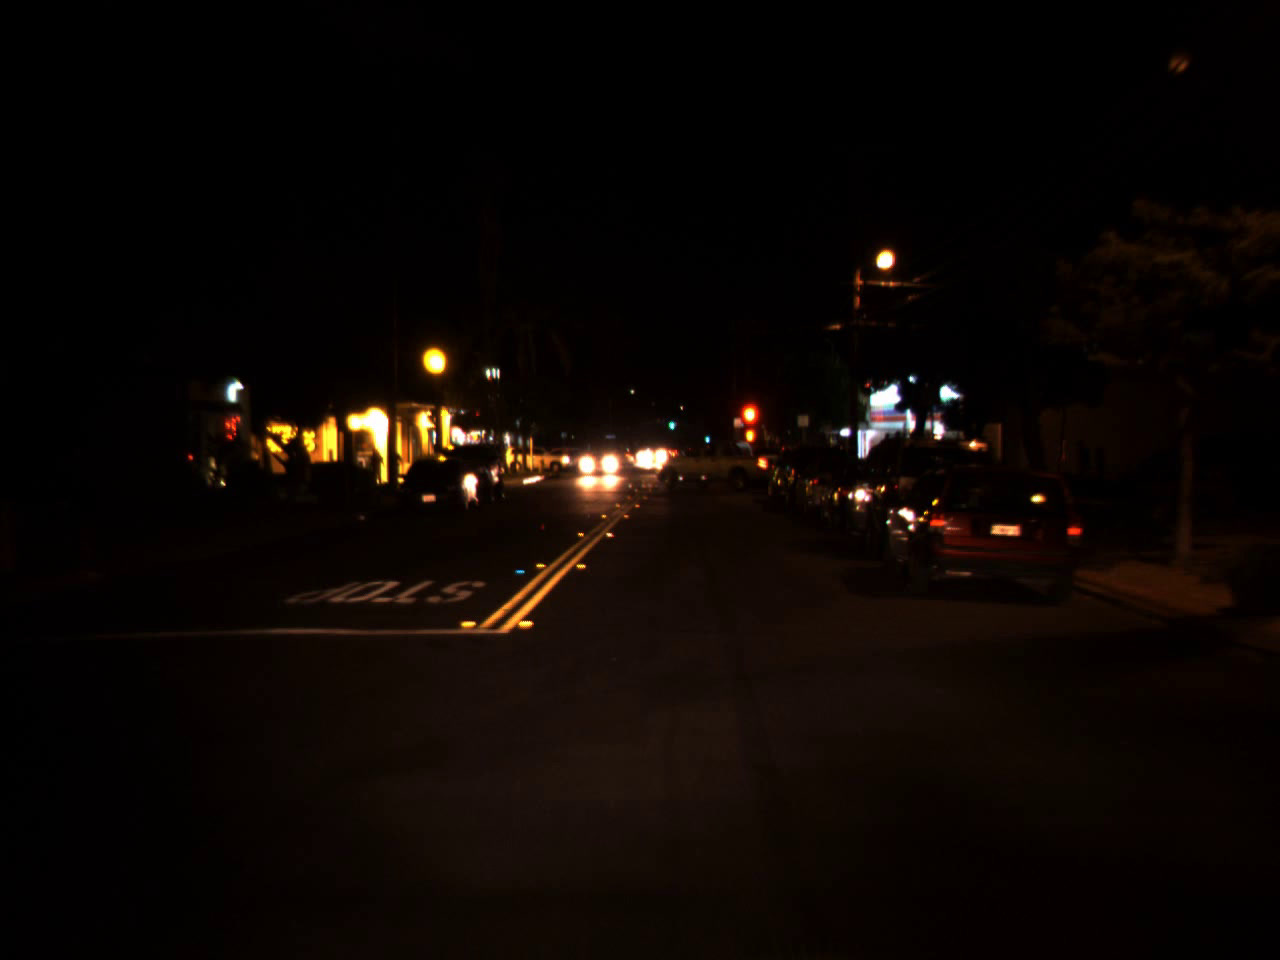go: (667, 413, 676, 431), (703, 429, 710, 444)
stop: (738, 399, 762, 453)
